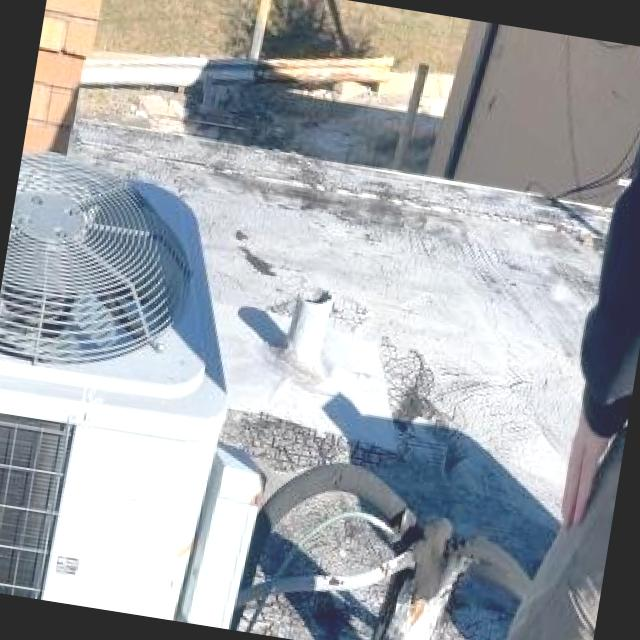SPLIT-SYSTEM: (0, 144, 314, 632)
